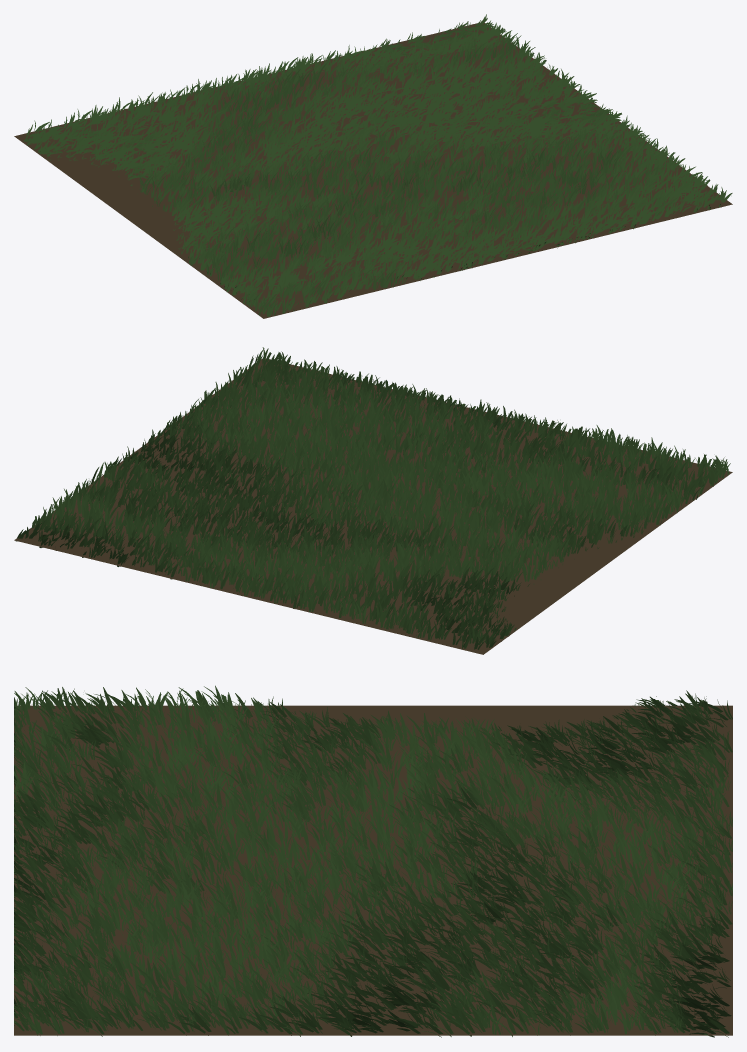
Rendered from ground_p2 2.glb.
3 renders of one model, top to bottom at view 1: azimuth 30°, elevation 25°; view 2: azimuth 150°, elevation 25°; view 3: azimuth 270°, elevation 25°, orthographic. The views are drawn at different scales.
Visible parts, largest first — view 1: Ground_P2; view 2: Ground_P2; view 3: Ground_P2.
Boxes of the visible parts, x1=… form: Ground_P2: x1=14, y1=14, x2=732, y2=318; Ground_P2: x1=14, y1=347, x2=732, y2=654; Ground_P2: x1=14, y1=685, x2=732, y2=1037.
Size of the model in its own units: 19 by 0.7903 by 17.5.
